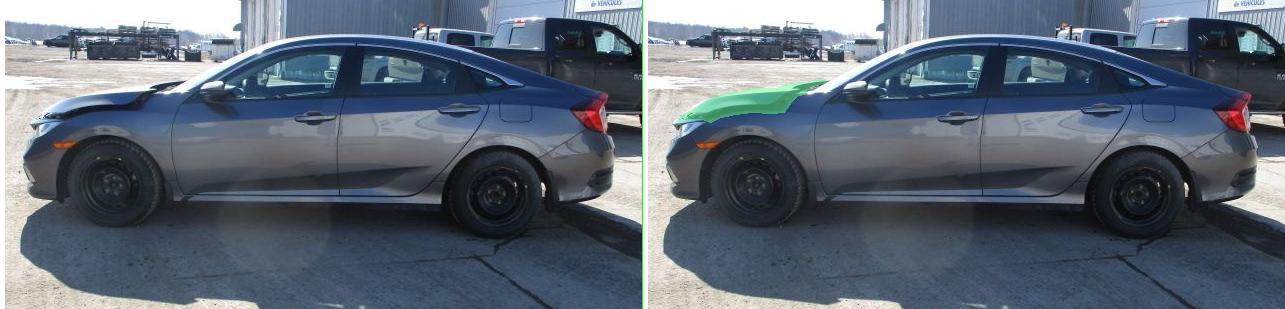Broken part: (68, 80, 370, 122)
